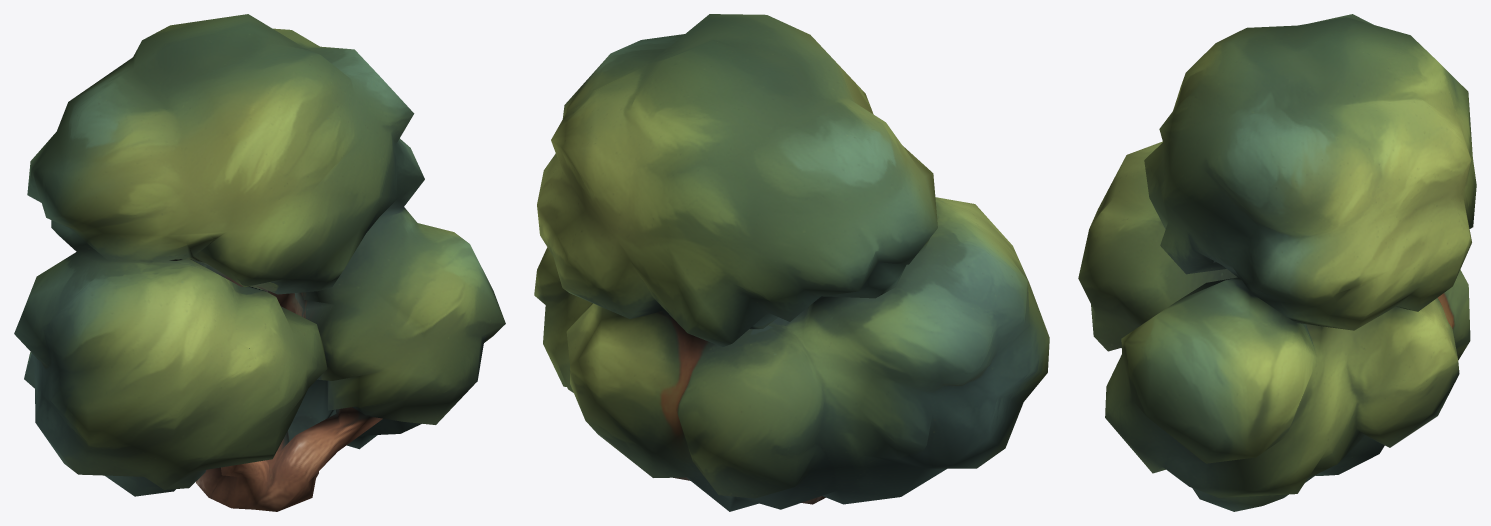
File: bush_round.glb
The picture shows the model from 3 angles, left to right: view 1: azimuth 30°, elevation 25°; view 2: azimuth 150°, elevation 25°; view 3: azimuth 270°, elevation 25°; orthographic projection. The views are drawn at different scales.
Parts seen in each view (by area): view 1: geometry_0.001; view 2: geometry_0.001; view 3: geometry_0.001.
Boxes of the visible parts, left/top/right/bottom form: geometry_0.001: left=14, top=14, right=505, bottom=511; geometry_0.001: left=534, top=14, right=1049, bottom=511; geometry_0.001: left=1078, top=14, right=1476, bottom=511.
Bounding box in the file's own units: 1.99 × 1.81 × 1.48.
1 material, 1 textured.
